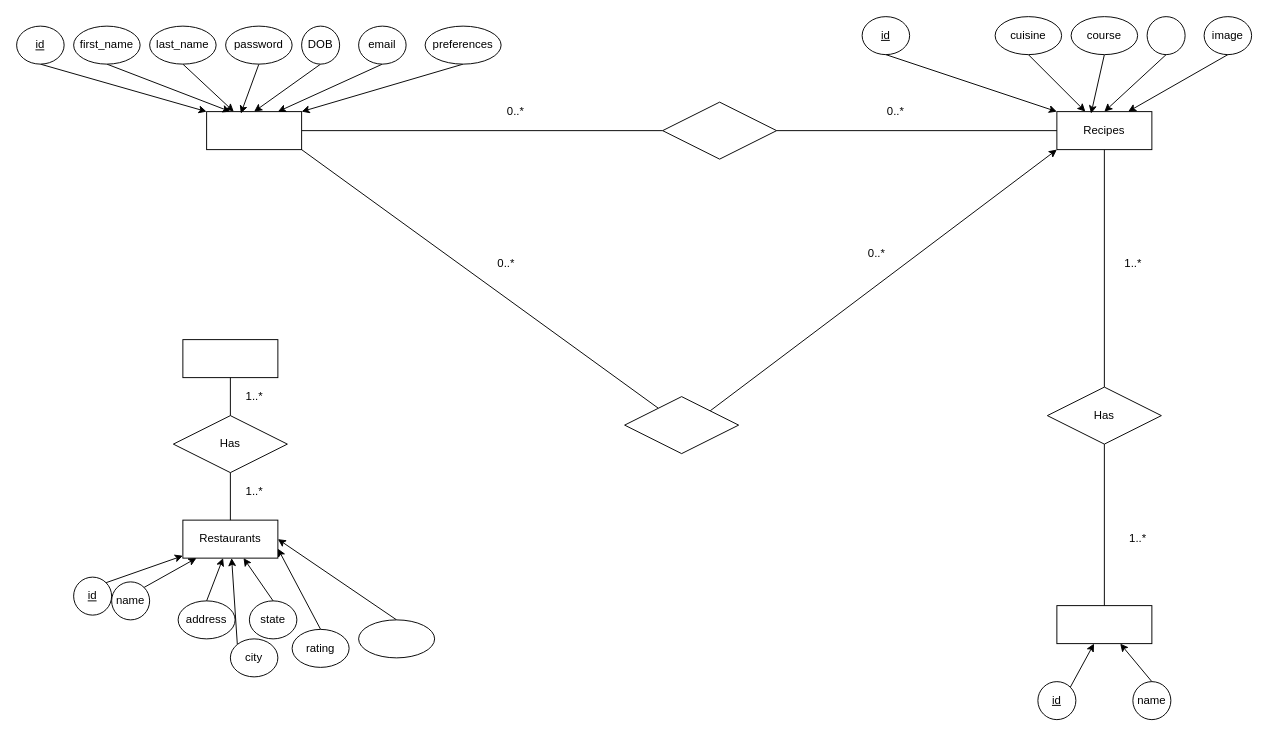
The diagram is 1268 pixels wide and 736 high, and some of its shapes have lost their labels. The shapes that lost their labels are listed below. From the top down, each one's centre as x and y in pixels, then its label:
(x=1165, y=35): time
(x=254, y=130): User
(x=719, y=130): Saves
(x=230, y=358): Category
(x=681, y=425): Rates
(x=396, y=638): review_count
(x=1104, y=624): Ingredients
